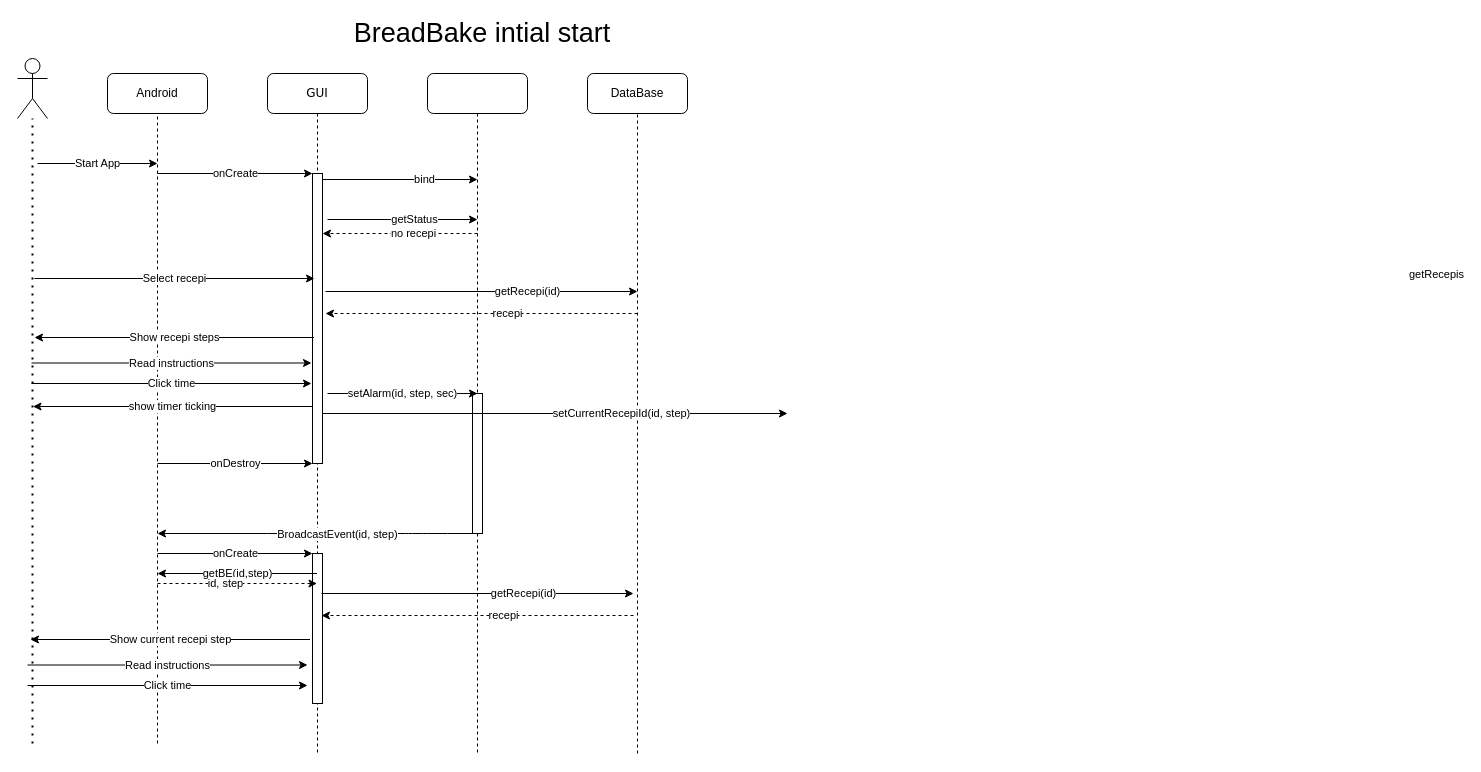
The diagram is 1481 pixels wide and 772 high, and some of its shapes have lost their labels. The box of each missing label's shape, as (x1, y1, x2, y2) in pixels:
Actor: (16, 58, 48, 118)
RecepiHandler: (426, 72, 528, 754)
